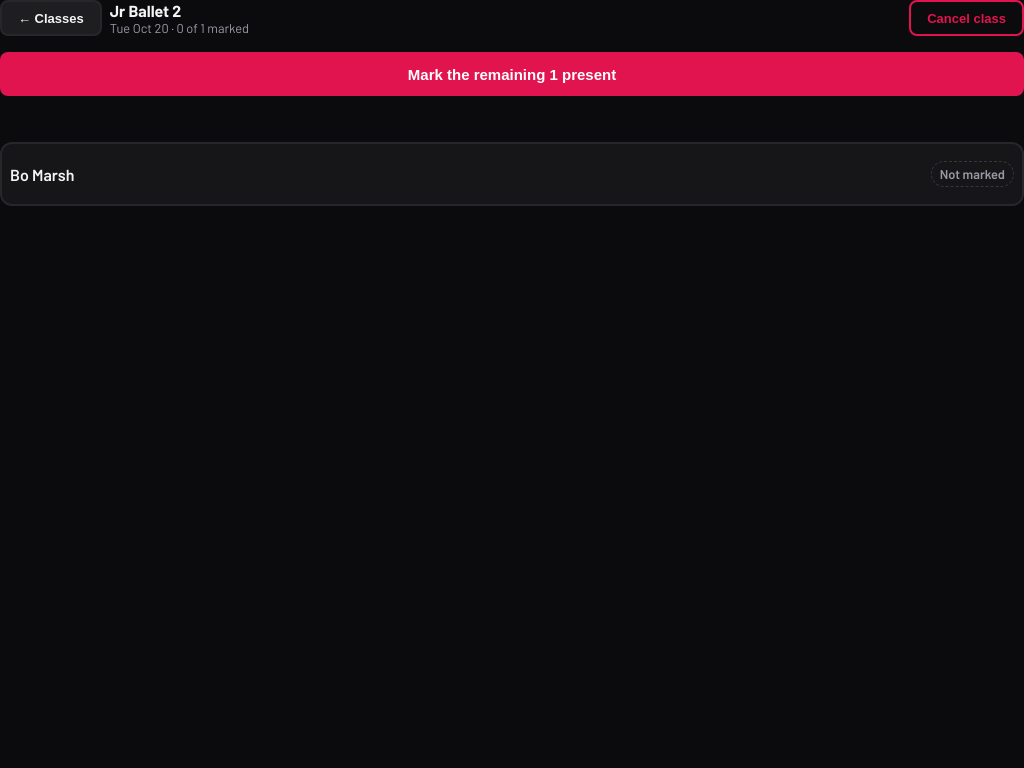
it: cancelling the class › a failed cancel keeps the dialog open, says nothing changed, and leaves the class held
This screenshot has width=1024, height=768.
Click the button "Cancel class" at (967,18), box [909, 0, 1023, 36]
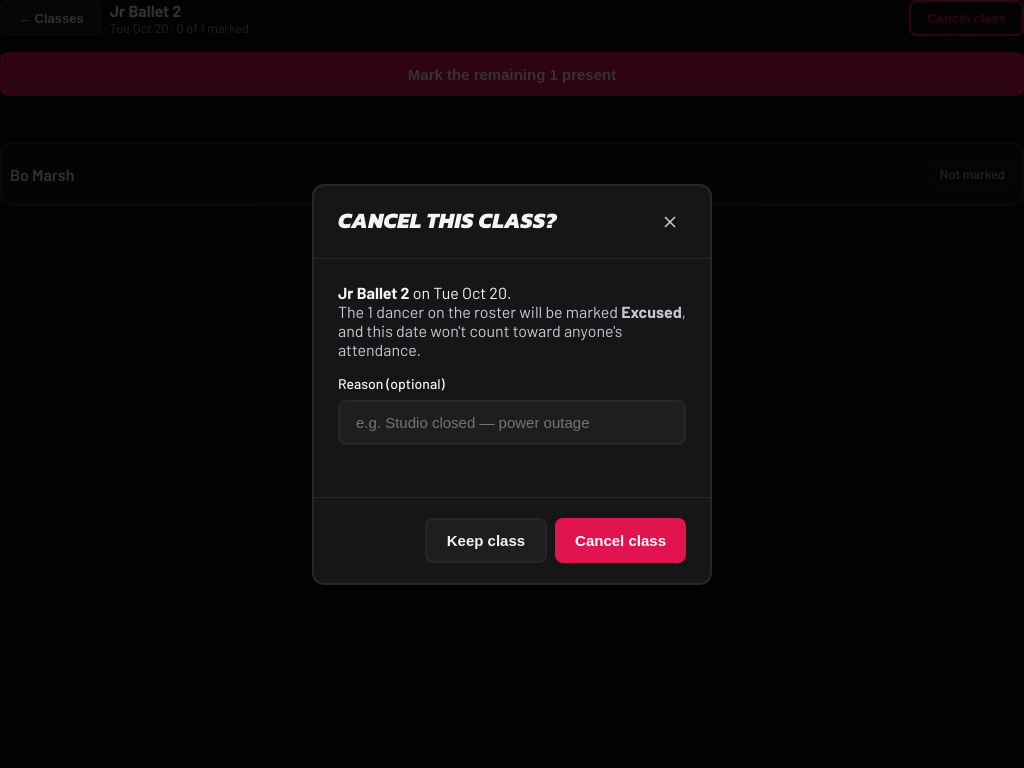
Click the button "Cancel class" at (621,540), box [555, 518, 686, 562]
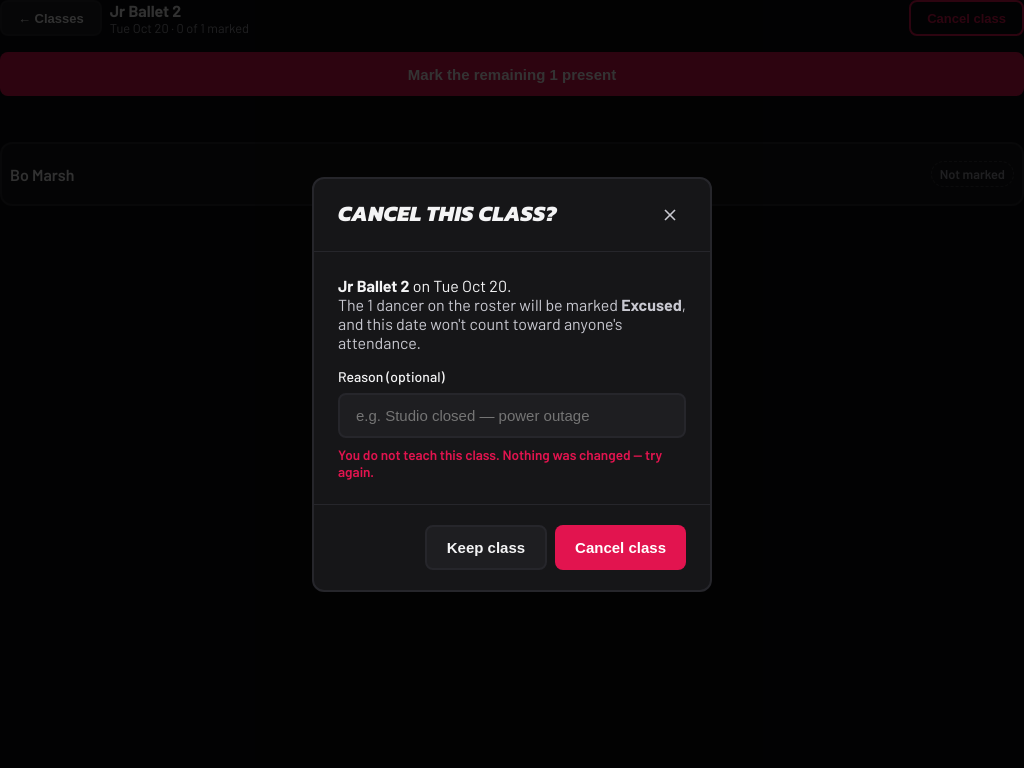
Check: the text "You do not teach this class. Nothing was changed — try again." is shown, box [338, 446, 686, 480]
